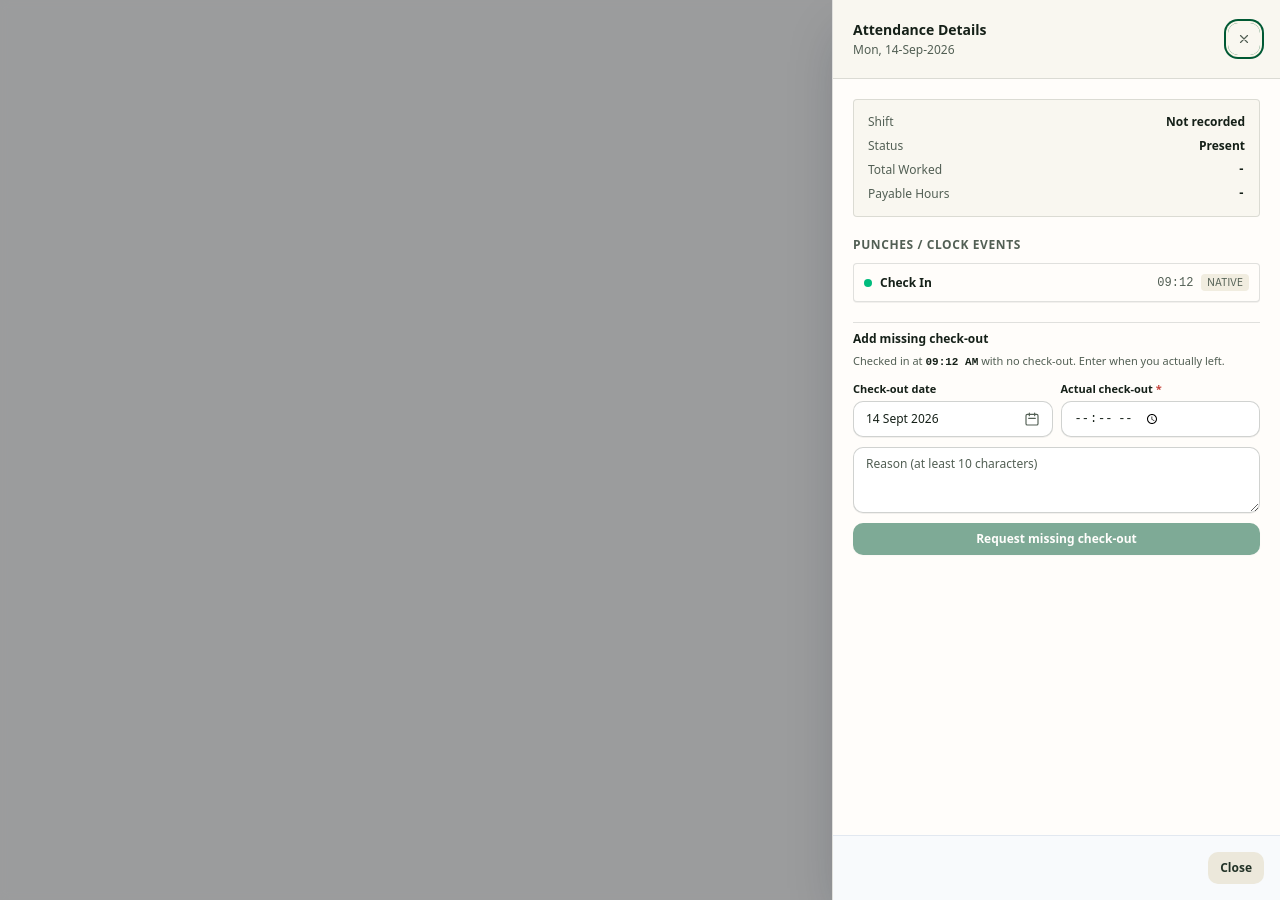
Test: attendance drawer, day with no check-out › prefills no time, and will not send until a time and reason are given
Expected: the button "Request missing check-out" is disabled, [853,523,1260,555]
Type "18:07" into the time field labelled "Actual check-out *".
click(1160, 419); type("18:07")  # box [1060,401,1260,437]
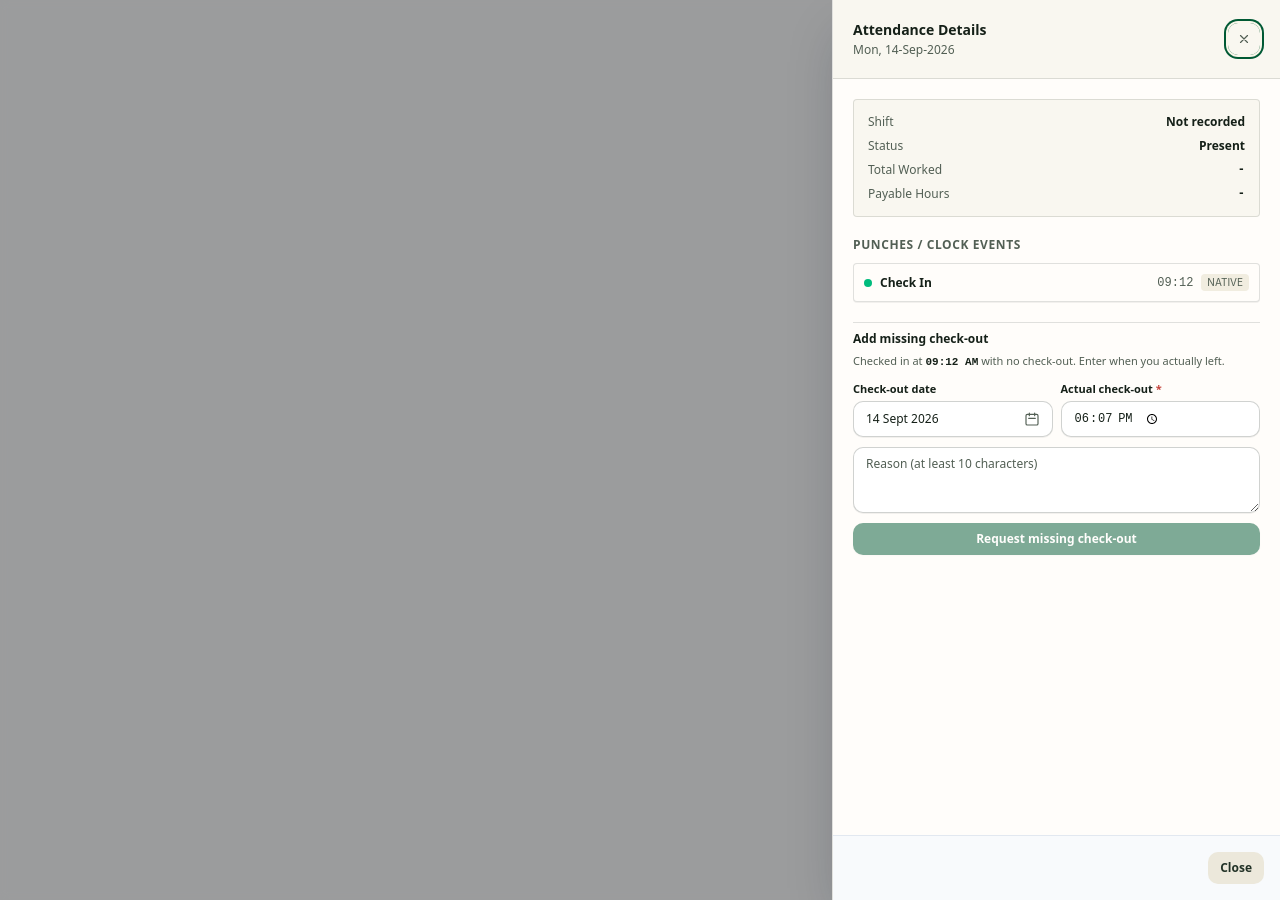
Expected: the button "Request missing check-out" is disabled, [853,523,1260,555]
Type "Forgot to punch out" into the text box labelled "Reason".
click(1056, 480); type("Forgot to punch out")  # box [853,447,1260,513]
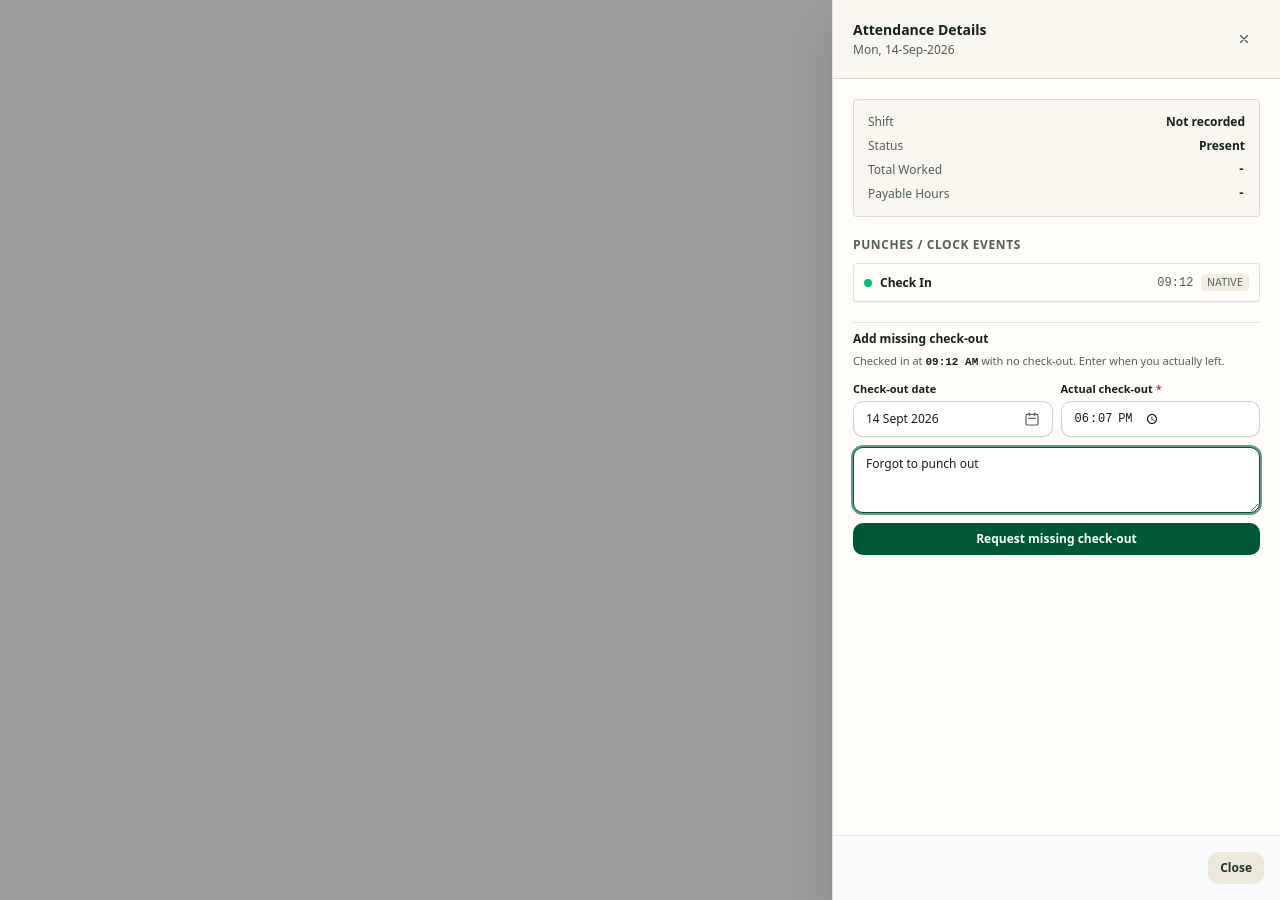
Expected: the button "Request missing check-out" is enabled
Click the button "Request missing check-out".
click(1056, 539)  # box [853,523,1260,555]
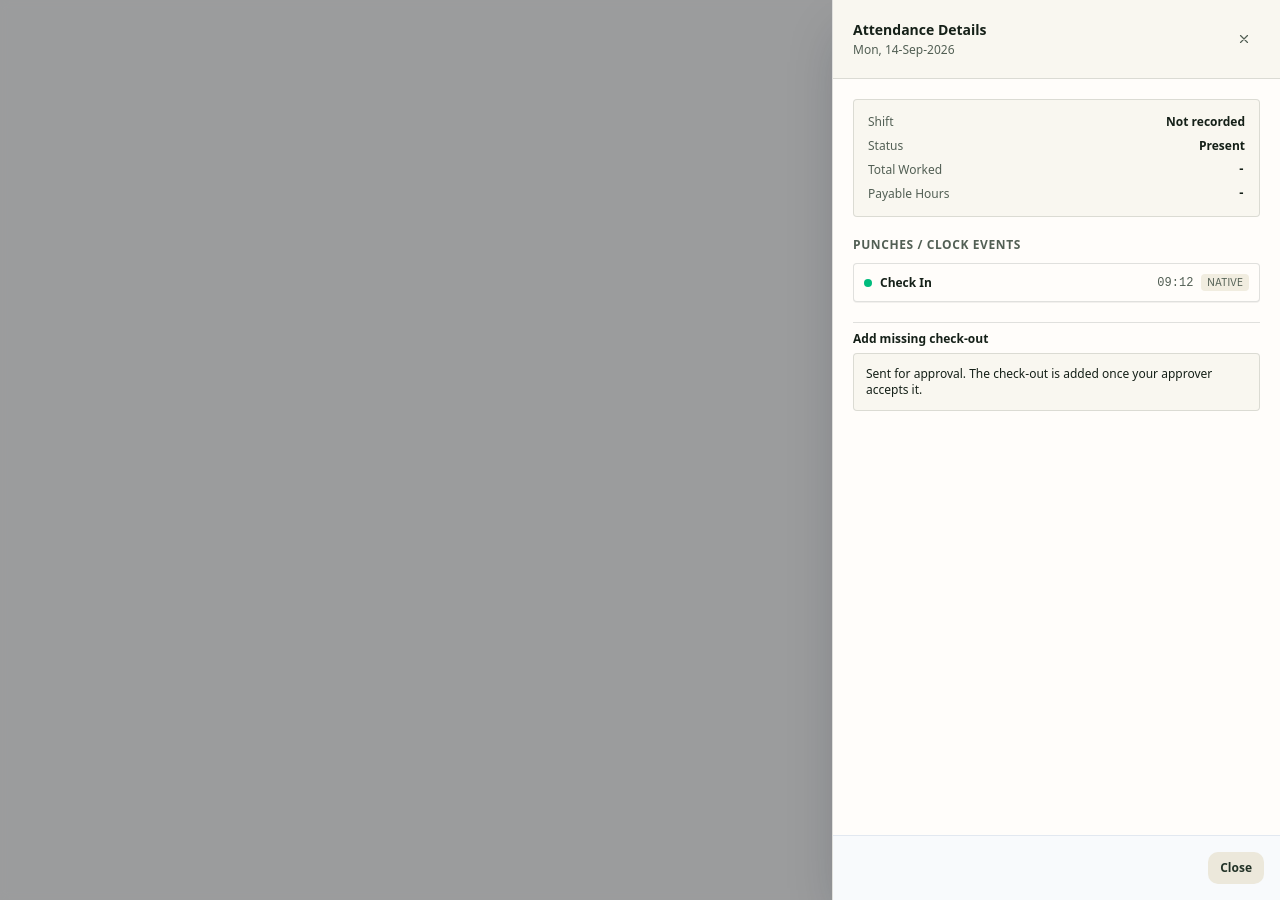
Expected: the text "Sent for approval" is shown, [866,365,1212,398]
